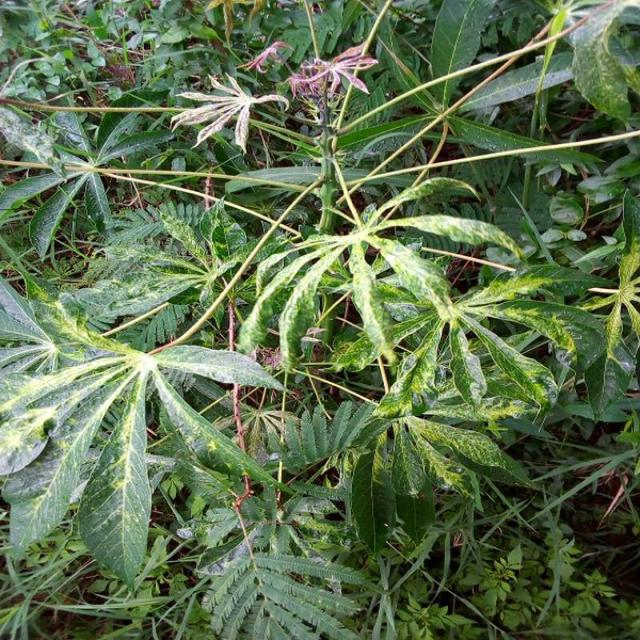cassava leaf: (0, 270, 285, 588)
